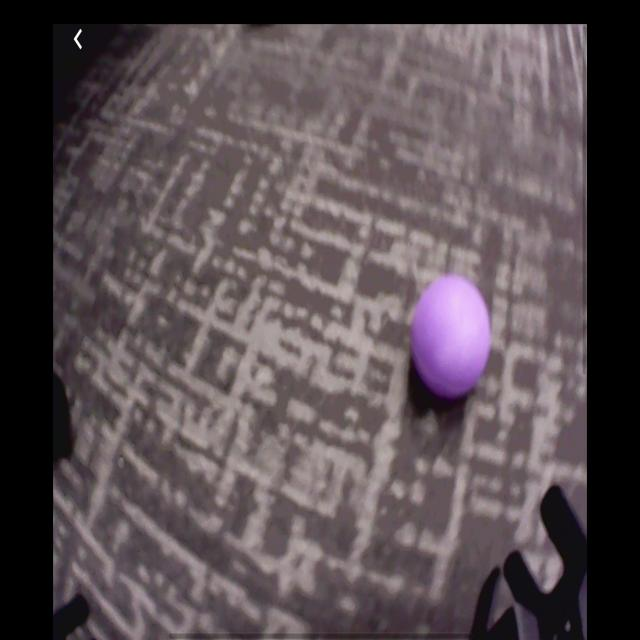ball: (412, 275, 491, 401)
